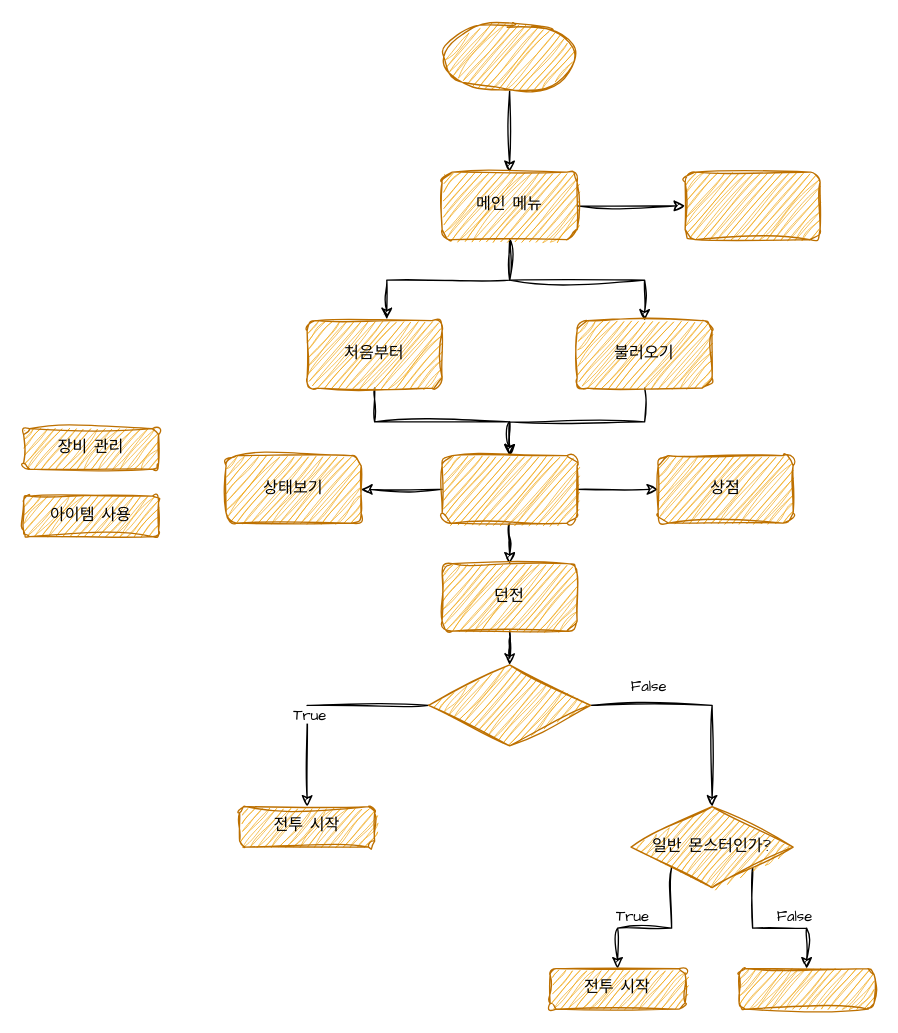
Image size: 898x1033. Some labels were removed from this diagram. The centre of each missing label's shape, as x and y in pixels:
"게임 종료" goes at pixel 752 205.
"다른 이벤트" goes at pixel 806 988.
"마을" goes at pixel 509 488.
"보스 몬스터인가?" goes at pixel 509 705.
"시작" goes at pixel 509 56.
